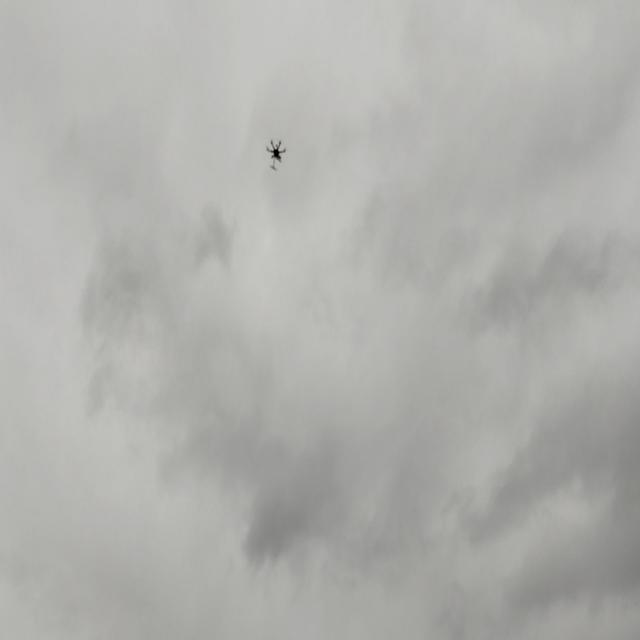drone: (265, 136, 289, 172)
